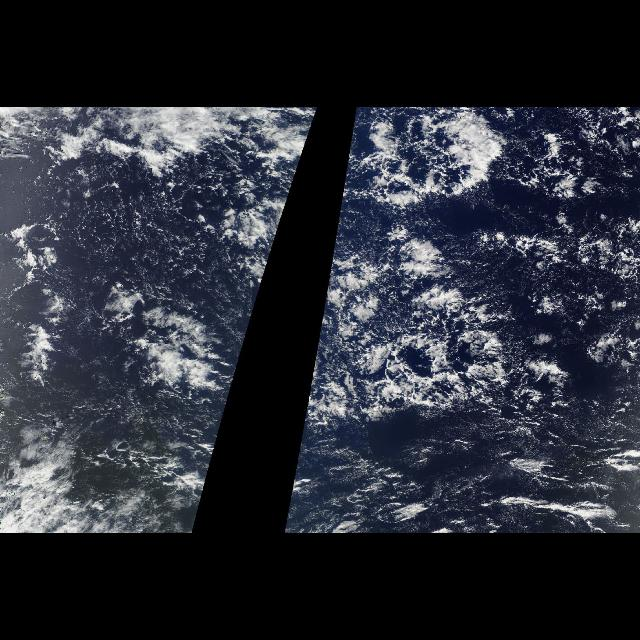Sugar: (42, 154, 228, 300)
